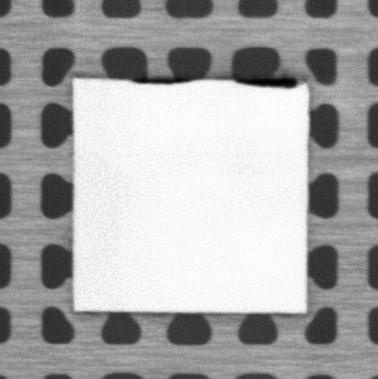DIE_BROKEN: (233, 76, 301, 89), (130, 75, 197, 85)
